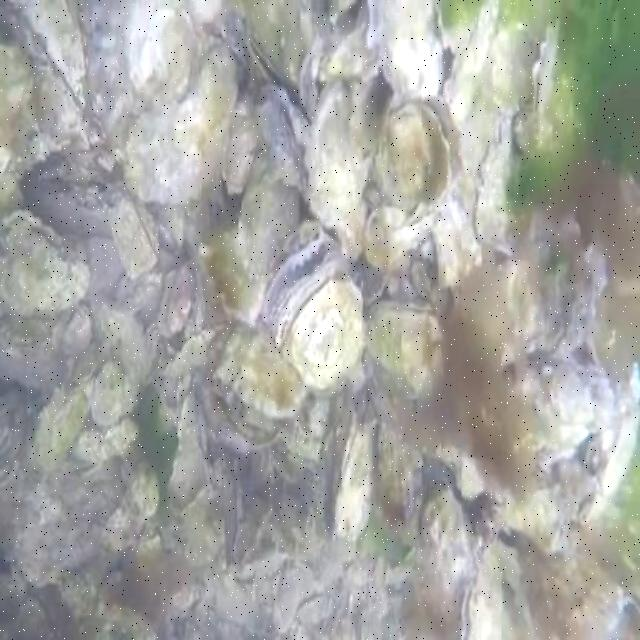Oyster-Closed: (119, 40, 241, 206), (298, 74, 372, 226), (413, 483, 475, 632), (358, 0, 446, 100), (475, 109, 529, 268), (232, 164, 304, 278), (22, 375, 92, 475), (333, 406, 379, 546), (440, 0, 496, 112), (108, 196, 164, 276), (87, 354, 135, 428)
Oyster-Open: (260, 231, 368, 399), (374, 88, 464, 212), (0, 204, 94, 320), (0, 0, 90, 120), (212, 326, 312, 434), (364, 298, 446, 398), (259, 79, 315, 189), (344, 62, 396, 164), (460, 536, 504, 640), (526, 16, 562, 134), (238, 23, 292, 98), (154, 261, 198, 339), (294, 33, 324, 117)
